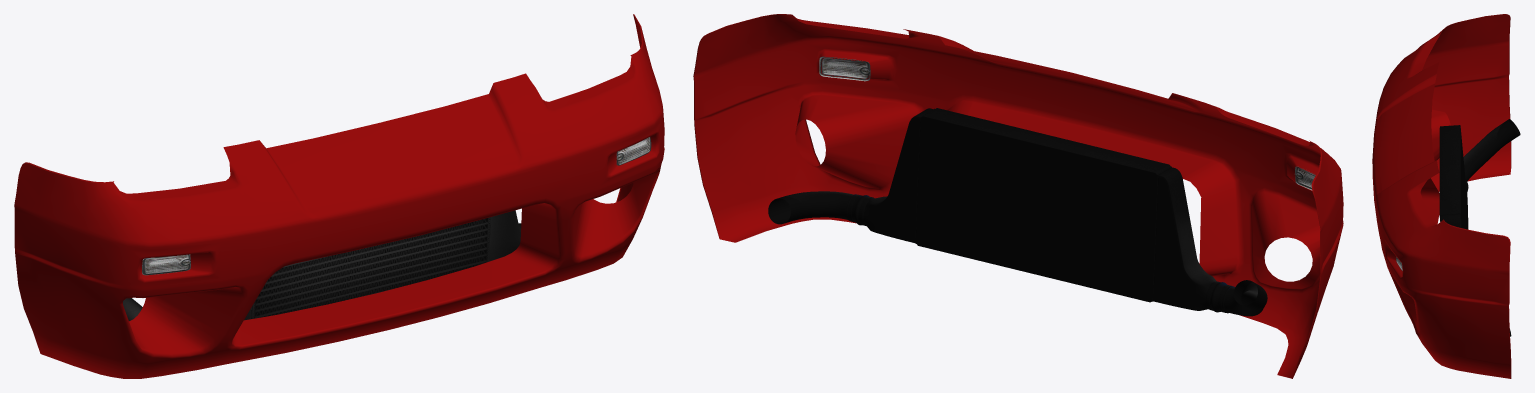
The model's file is frontbumper_rocketbunnyv1.glb.
3 views of the same model, side by side, from view 1: azimuth 30°, elevation 25°; view 2: azimuth 150°, elevation 25°; view 3: azimuth 270°, elevation 25° (orthographic). The views are drawn at different scales.
Visible parts, largest first — view 1: Bumper, Intercooler, Lamps; view 2: Bumper, Intercooler, Lamps; view 3: Bumper, Intercooler.
Boxes of the visible parts, x1=… form: Bumper: x1=14, y1=14, x2=664, y2=378; Intercooler: x1=123, y1=210, x2=521, y2=321; Lamps: x1=142, y1=137, x2=651, y2=275; Bumper: x1=693, y1=14, x2=1343, y2=378; Intercooler: x1=768, y1=108, x2=1267, y2=316; Lamps: x1=819, y1=56, x2=1315, y2=190; Bumper: x1=1372, y1=14, x2=1511, y2=378; Intercooler: x1=1439, y1=119, x2=1520, y2=336.
Bounding box in the file's own units: 1.56 × 0.496 × 0.4241.
3 materials, 2 textured.
